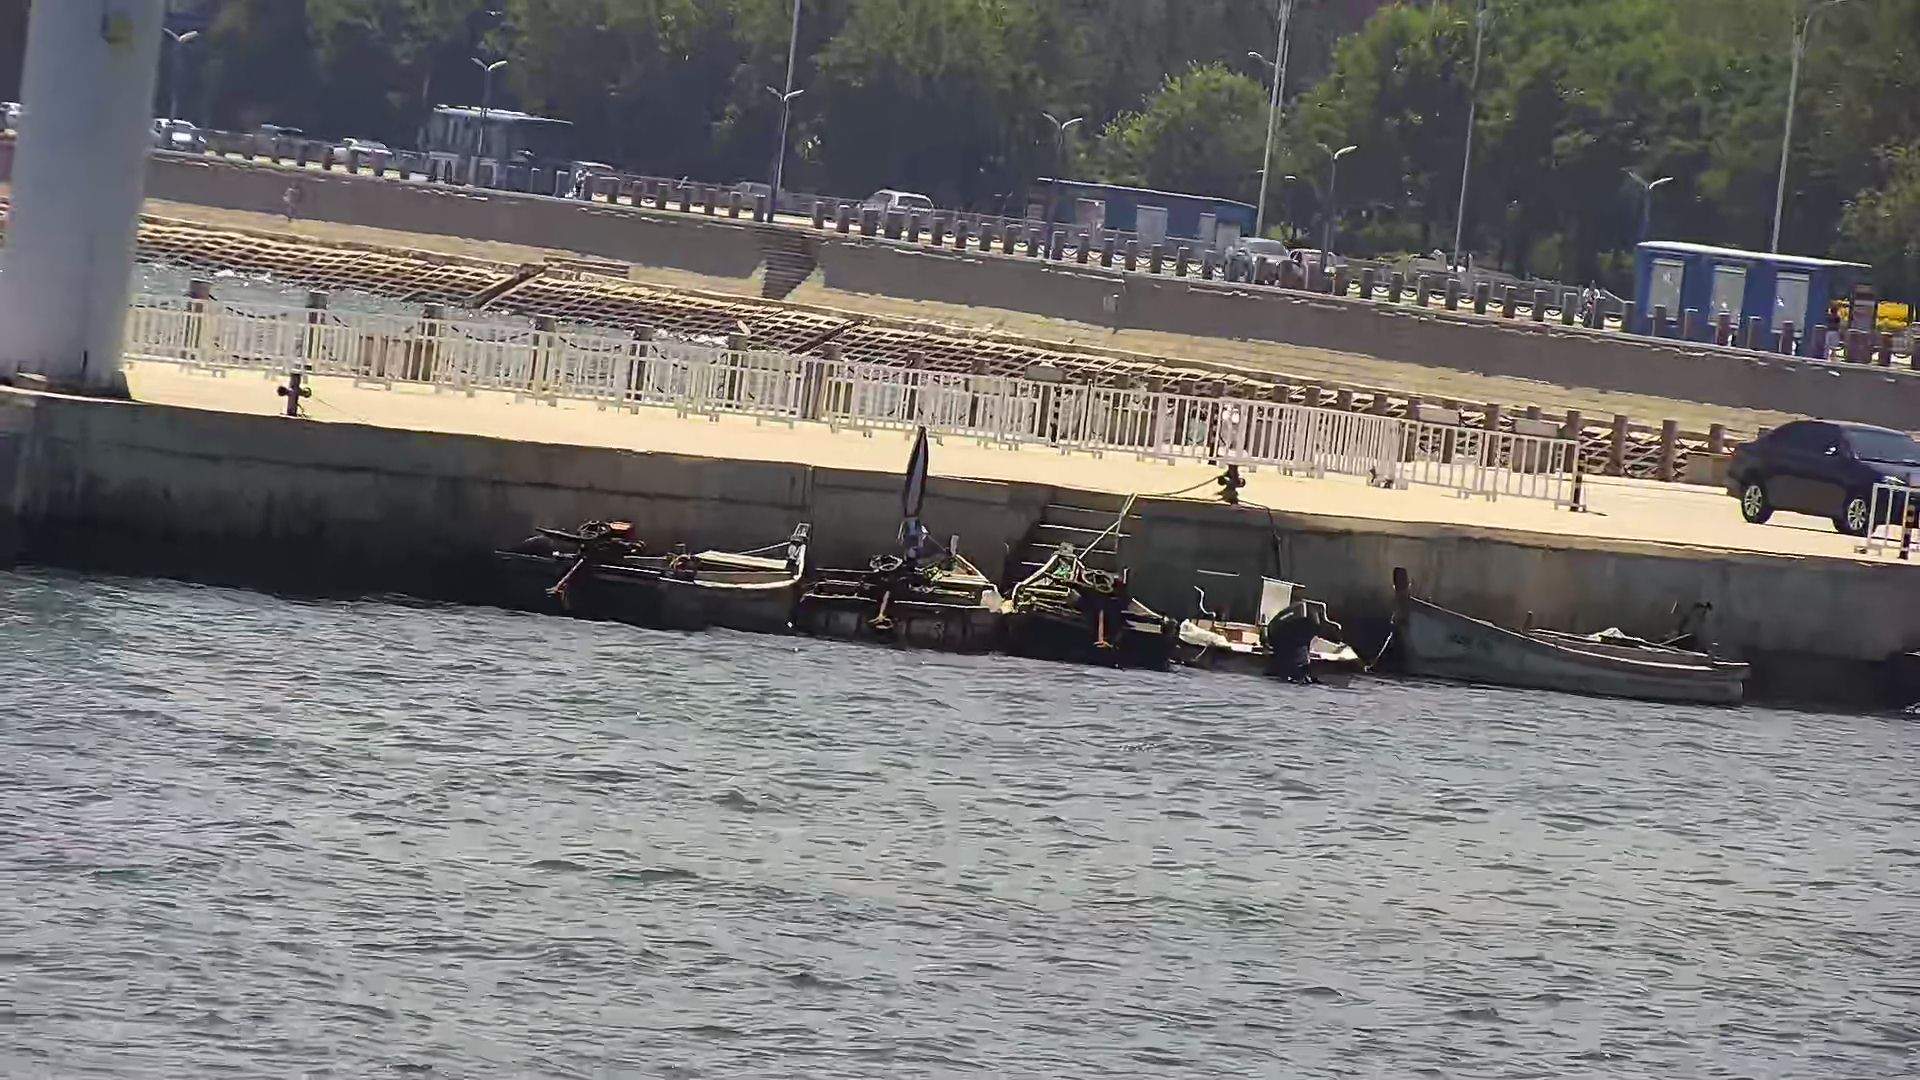boat: (1370, 553, 1758, 724), (464, 506, 823, 640), (808, 425, 1001, 665), (986, 534, 1179, 680), (1176, 566, 1382, 699)
harbor: (1, 293, 1917, 716)
